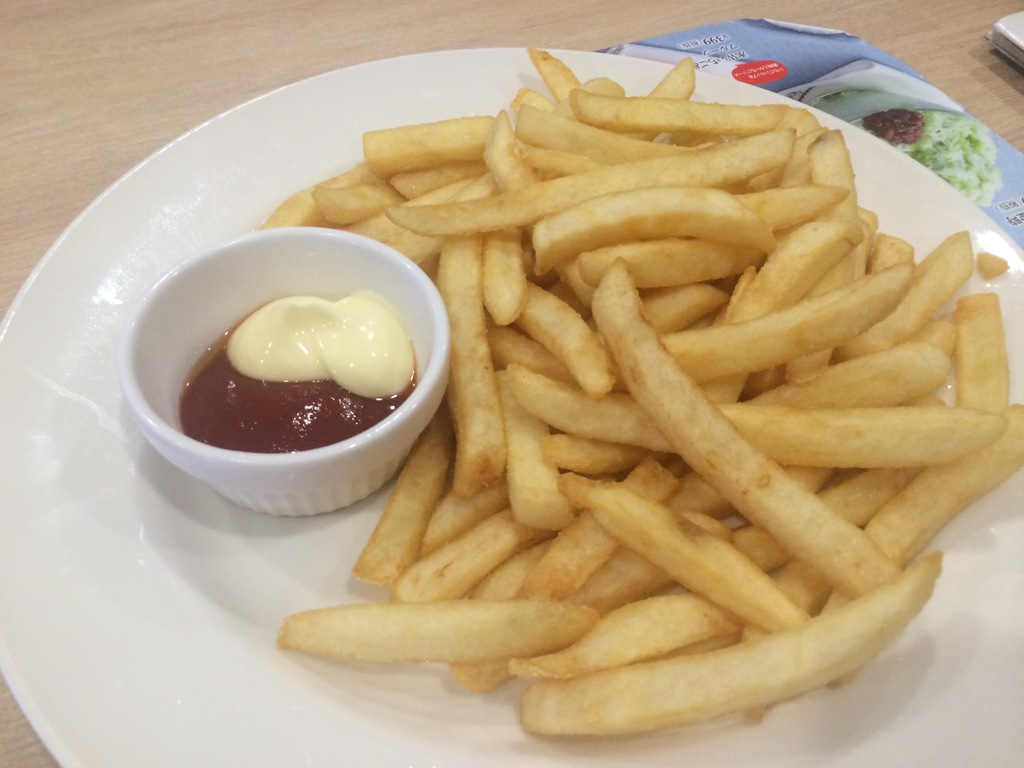French fries: (245, 42, 1023, 757)
